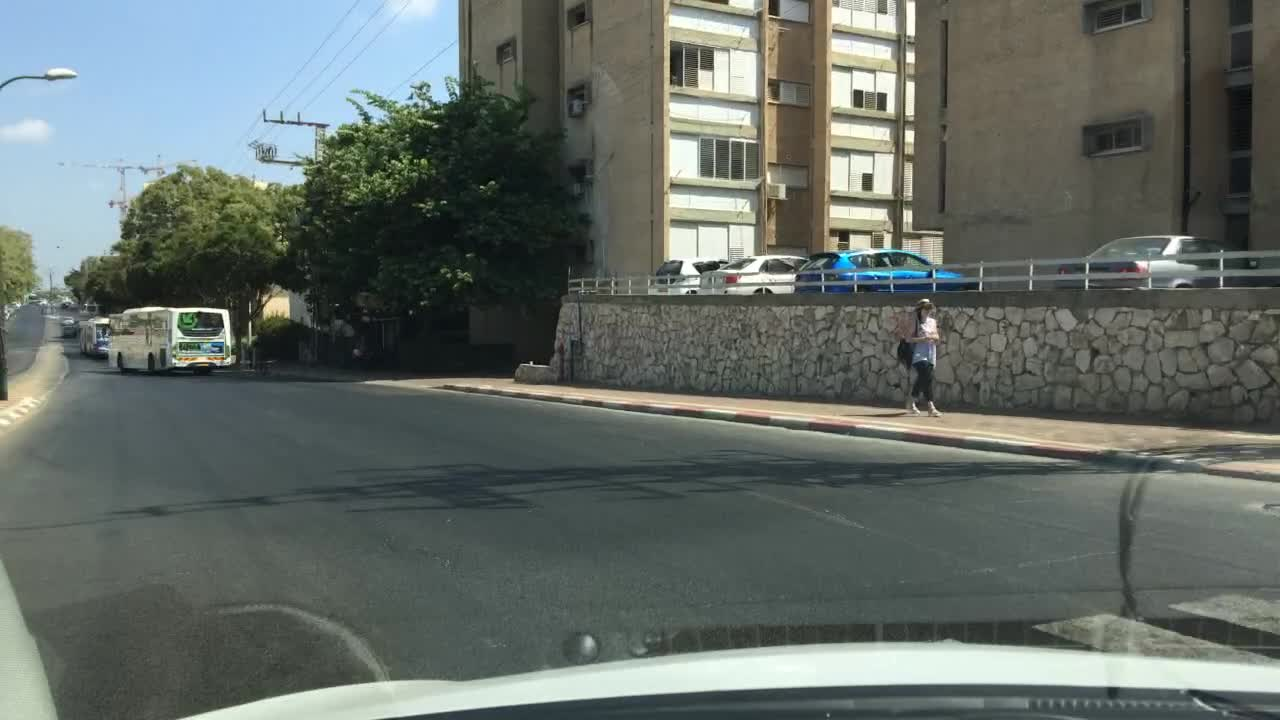bus: (111, 304, 239, 379)
car: (1050, 231, 1264, 295), (791, 247, 980, 297), (692, 253, 821, 298), (645, 256, 738, 295), (76, 315, 109, 363), (63, 319, 83, 339), (58, 311, 76, 328)
person: (892, 297, 947, 418)
